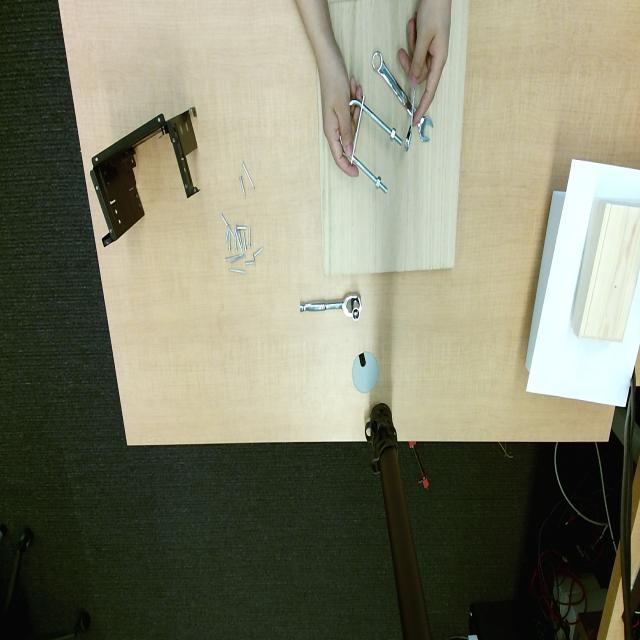wrench: (371, 51, 433, 142), (300, 296, 361, 320), (404, 87, 416, 151)
